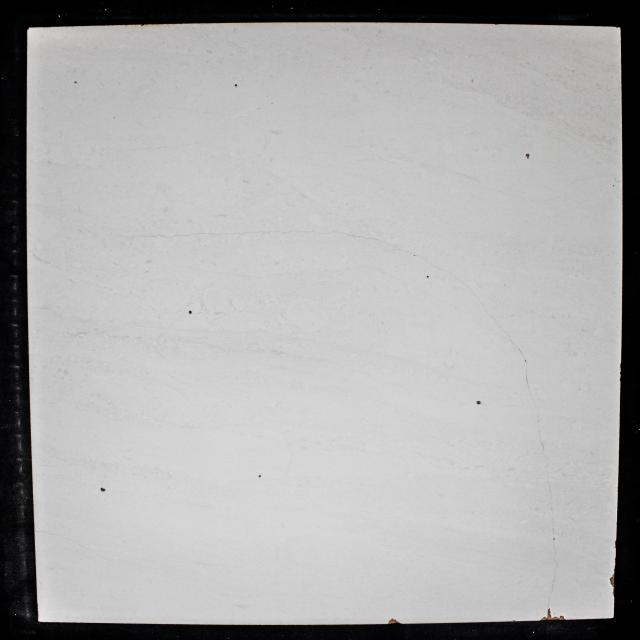edge-chipping: (540, 608, 566, 620), (610, 571, 616, 596), (388, 617, 401, 625), (140, 23, 145, 27)
hole: (525, 153, 531, 160), (100, 487, 106, 493), (476, 400, 482, 405), (188, 310, 193, 315), (234, 83, 238, 88), (258, 474, 262, 478), (74, 80, 78, 84), (426, 275, 430, 278)
line: (432, 266, 502, 330), (503, 330, 539, 417), (338, 232, 432, 264), (117, 230, 336, 240), (539, 417, 554, 527), (35, 530, 95, 552), (548, 529, 558, 606)
